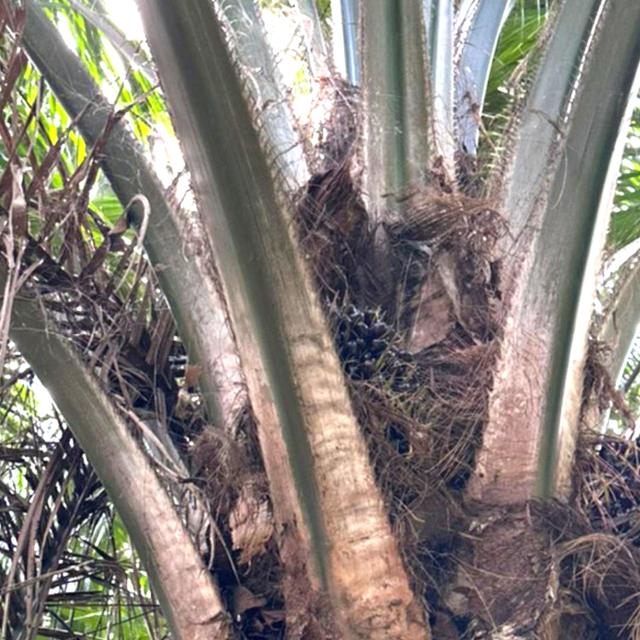unripe: (278, 288, 440, 514)
